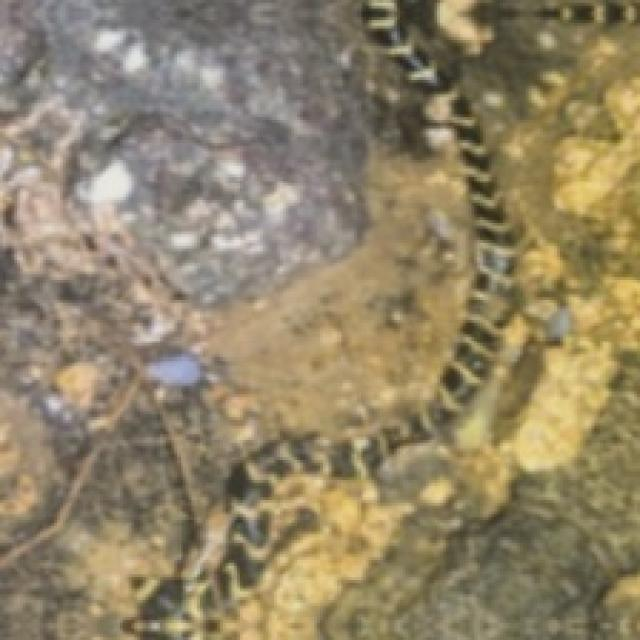king cobra: (129, 0, 637, 637), (126, 0, 603, 637)
